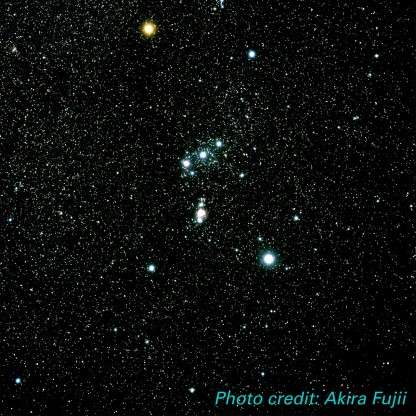Orion: (136, 14, 164, 45), (254, 245, 285, 272), (139, 258, 165, 283), (241, 43, 268, 66), (208, 134, 227, 156), (194, 144, 210, 165), (174, 154, 193, 171)
